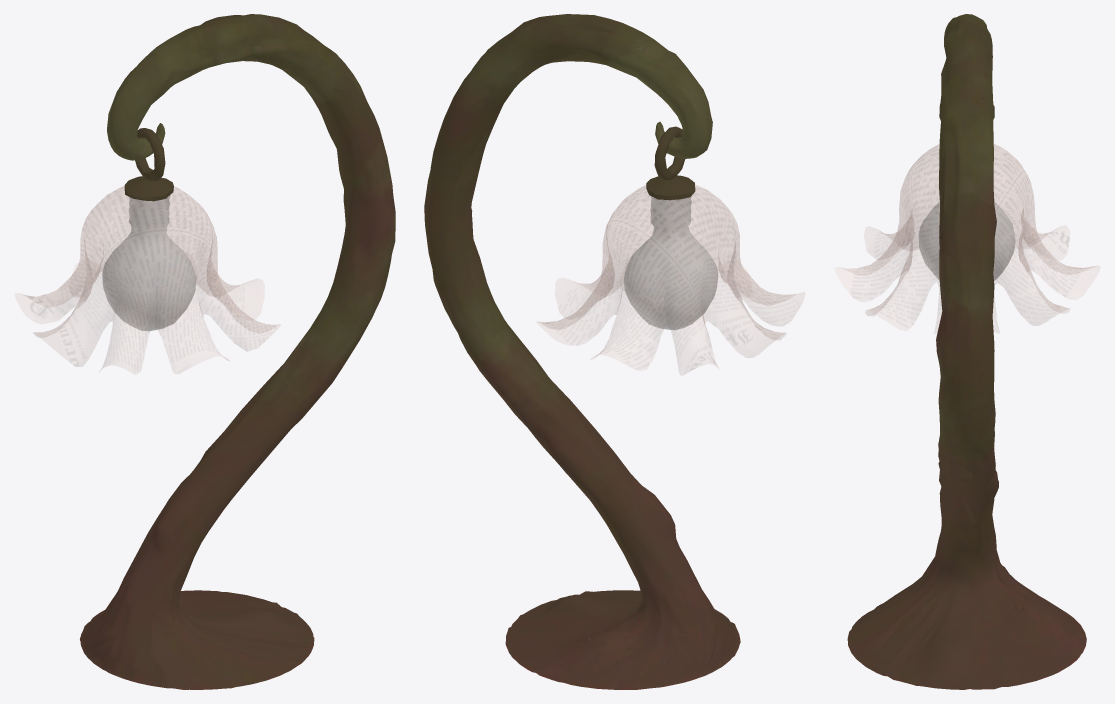
The model's file is LightsPunctualLamp.glb.
3 views of the same model, side by side, from view 1: azimuth 30°, elevation 25°; view 2: azimuth 150°, elevation 25°; view 3: azimuth 270°, elevation 25° (orthographic).
Size of the model in its own units: 1.13 by 1.86 by 0.7216.
3 materials, 3 textured.
